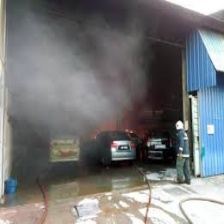smoke: (1, 26, 131, 115)
